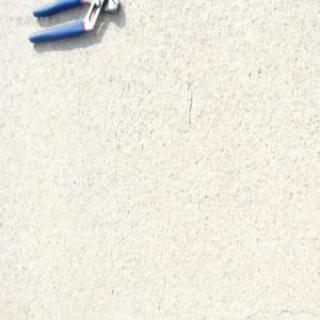Pliertrack_idkeyframe: (27, 0, 122, 46)
